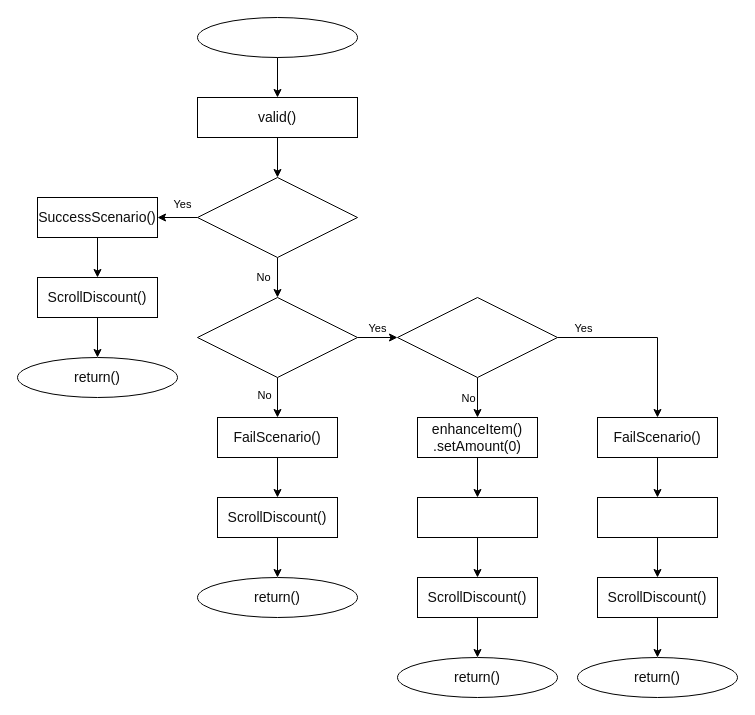
The diagram is 755 pixels wide and 715 high, and some of its shapes have lost their labels. Here are the shapes that lost their labels. From the top down, the centre of each, then its label:
At [277,37]: "executeEnhance()".
At [277,217]: "isSuccess".
At [277,337]: "isDestory".
At [477,337]: "hasProtectScroll".
At [477,517]: "SendMessage(3)".
At [657,517]: "SendMessage(4)".
